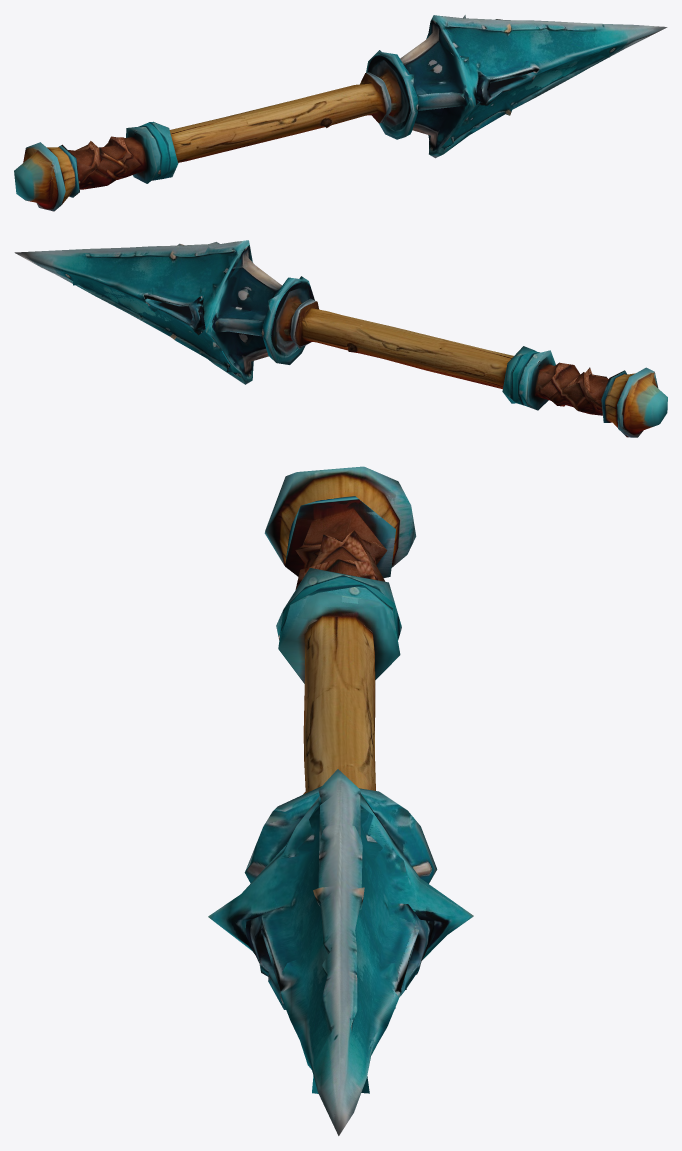
Rendered from weapon_jousting_lance_tertiary_1500_raw.glb.
3 renders of one model, top to bottom at view 1: azimuth 30°, elevation 25°; view 2: azimuth 150°, elevation 25°; view 3: azimuth 270°, elevation 25°, orthographic. The views are drawn at different scales.
Parts seen in each view (by area): view 1: tripo_node_4dd02c4c-8c8e-4911-8962-47d3a671f448; view 2: tripo_node_4dd02c4c-8c8e-4911-8962-47d3a671f448; view 3: tripo_node_4dd02c4c-8c8e-4911-8962-47d3a671f448.
Boxes of the visible parts, x1,y1,x2,y2 form: tripo_node_4dd02c4c-8c8e-4911-8962-47d3a671f448: (14, 15, 667, 211); tripo_node_4dd02c4c-8c8e-4911-8962-47d3a671f448: (14, 240, 667, 437); tripo_node_4dd02c4c-8c8e-4911-8962-47d3a671f448: (208, 466, 473, 1135).
Bounding box in the file's own units: 0.9806 × 0.2074 × 0.1745.
1 material, 1 textured.
